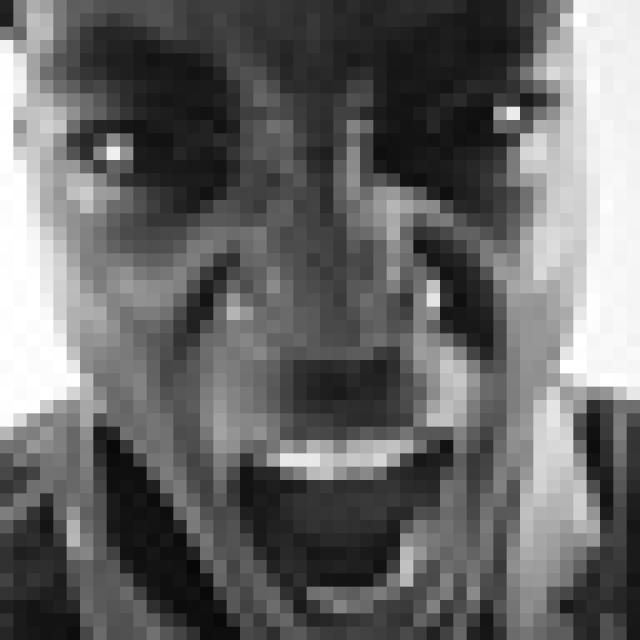angry: (42, 26, 570, 625)
